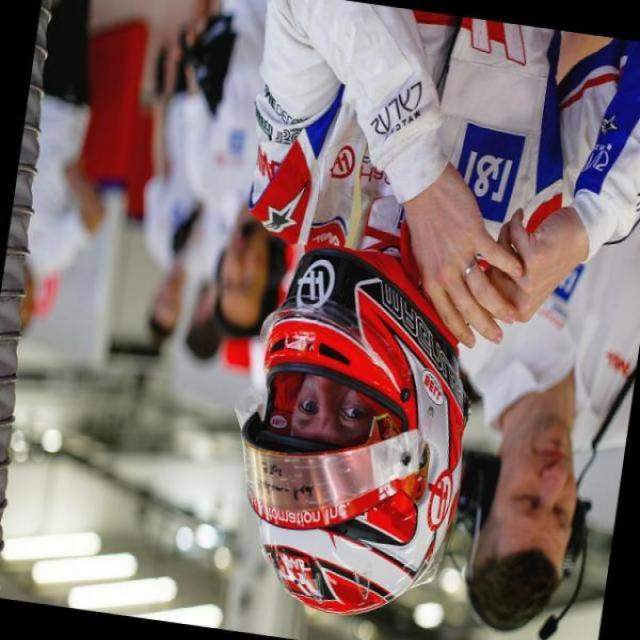Helmet: (253, 250, 476, 610)
